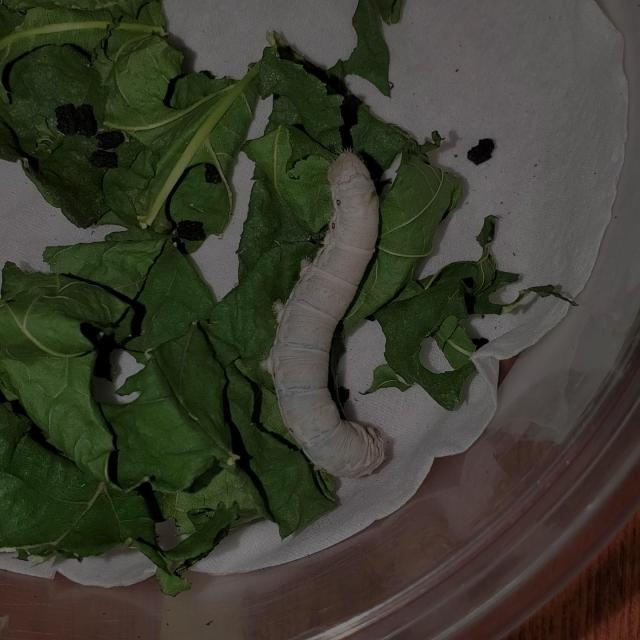Healthy: (243, 131, 410, 501)
